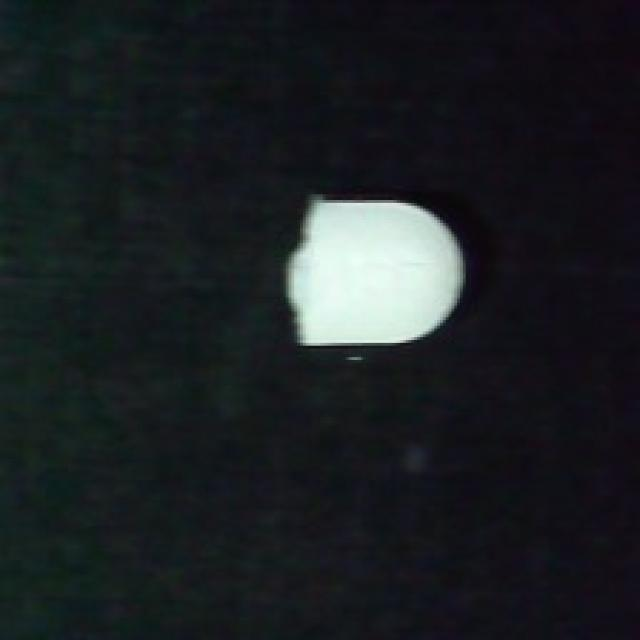defected: (263, 191, 480, 360)
